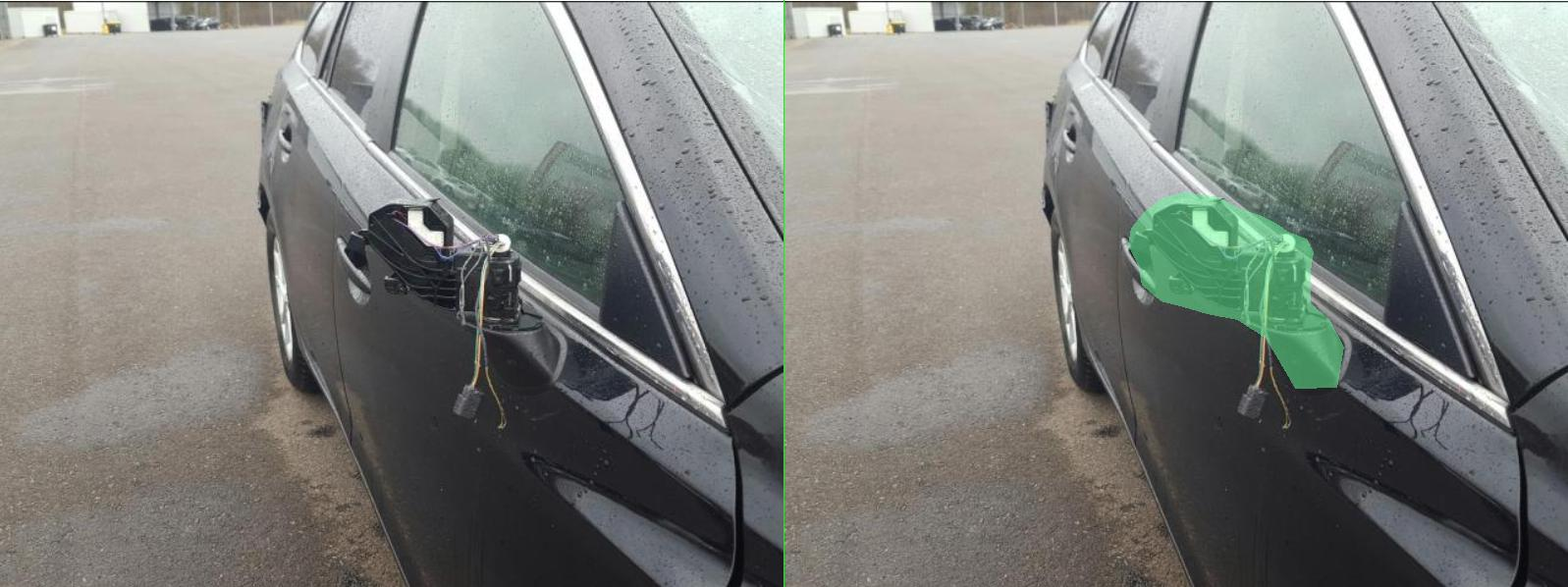Broken part: (688, 192, 1118, 388)
